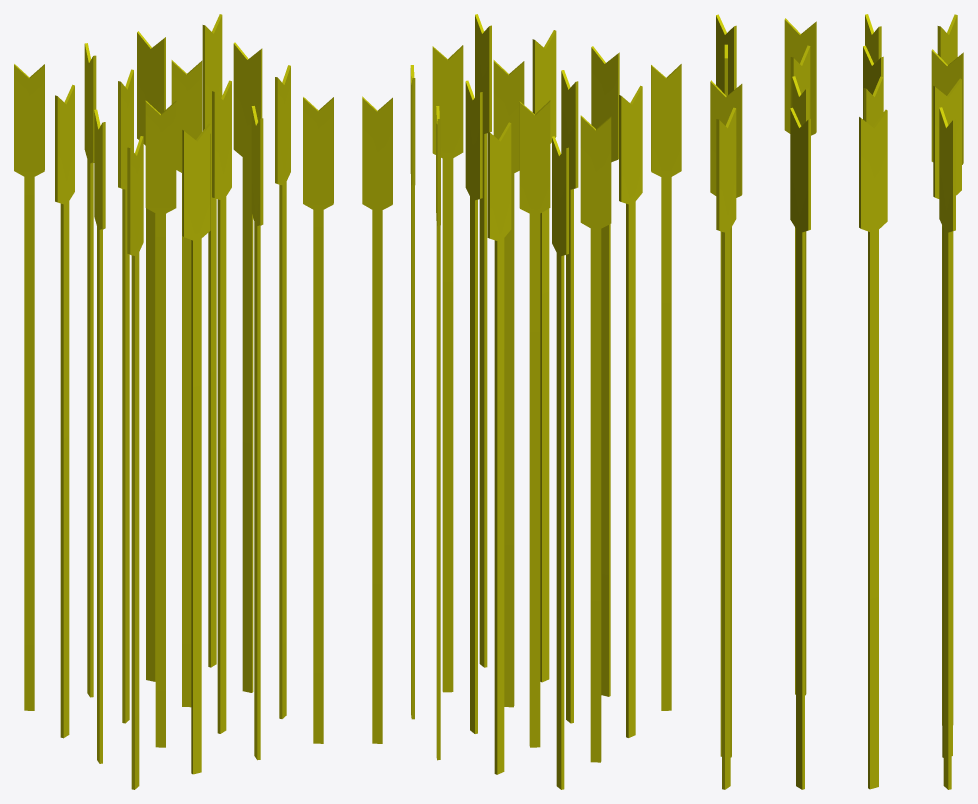
Rendered from Wheat.fbx.
The picture shows the model from 3 angles, left to right: view 1: azimuth 30°, elevation 25°; view 2: azimuth 150°, elevation 25°; view 3: azimuth 270°, elevation 25°; orthographic projection. The views are drawn at different scales.
Visible parts, largest first — view 1: Mesh; view 2: Mesh; view 3: Mesh.
Part boxes in pixels (left/top/right/bottom): Mesh: left=14, top=14, right=333, bottom=789; Mesh: left=362, top=14, right=681, bottom=789; Mesh: left=710, top=14, right=963, bottom=789.
Size of the model in its own units: 88.7 by 263 by 89.51.
